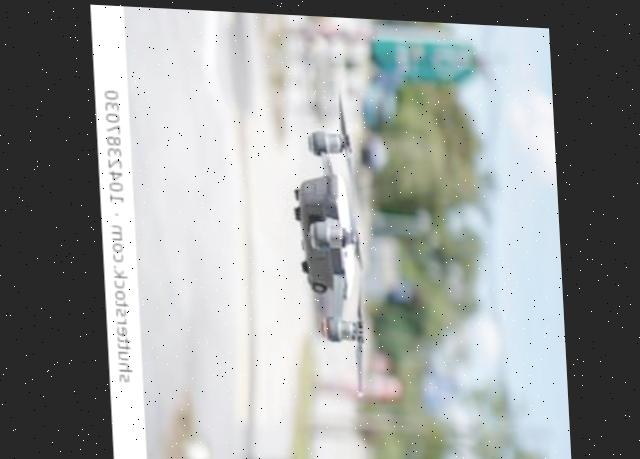drone: (255, 71, 403, 416)
